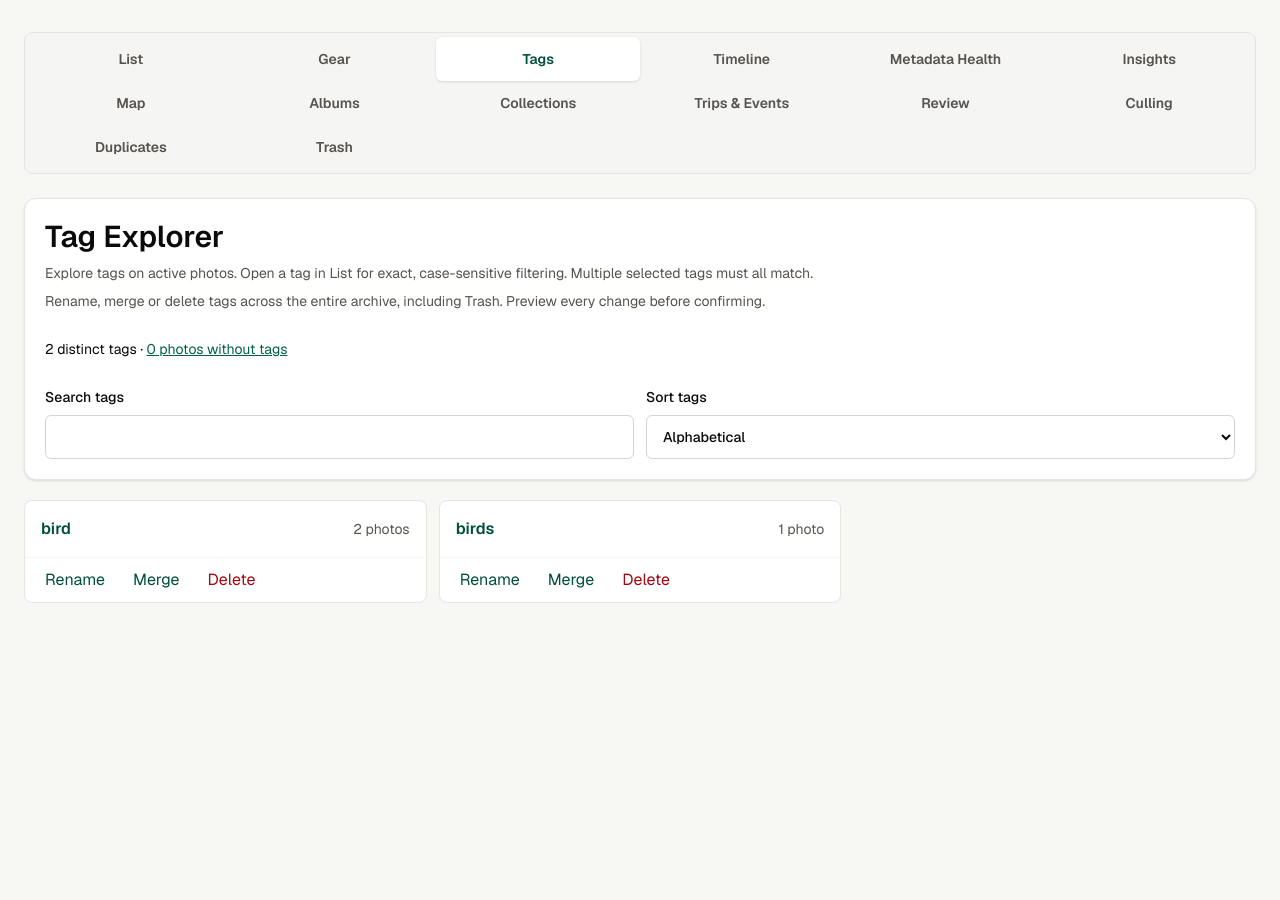
Test: Rename form previews counts, examples and applies once, then refreshes counts
Click the button with aria-label "Rename tag bird" at x=75, y=580, box [33,558,117,602]
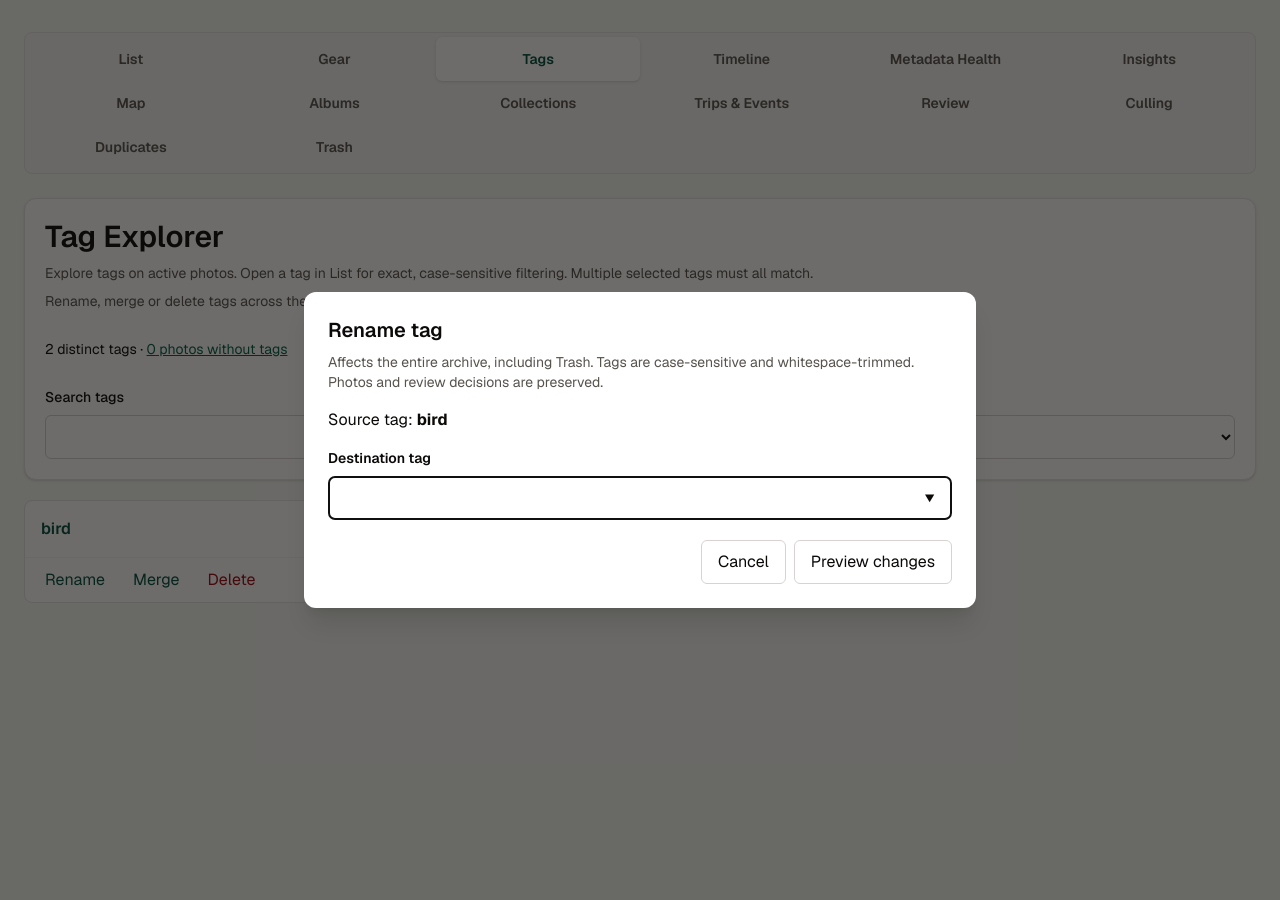
Type "birds" into the field labelled "Destination tag" at x=640, y=498, box [328,476,952,520]
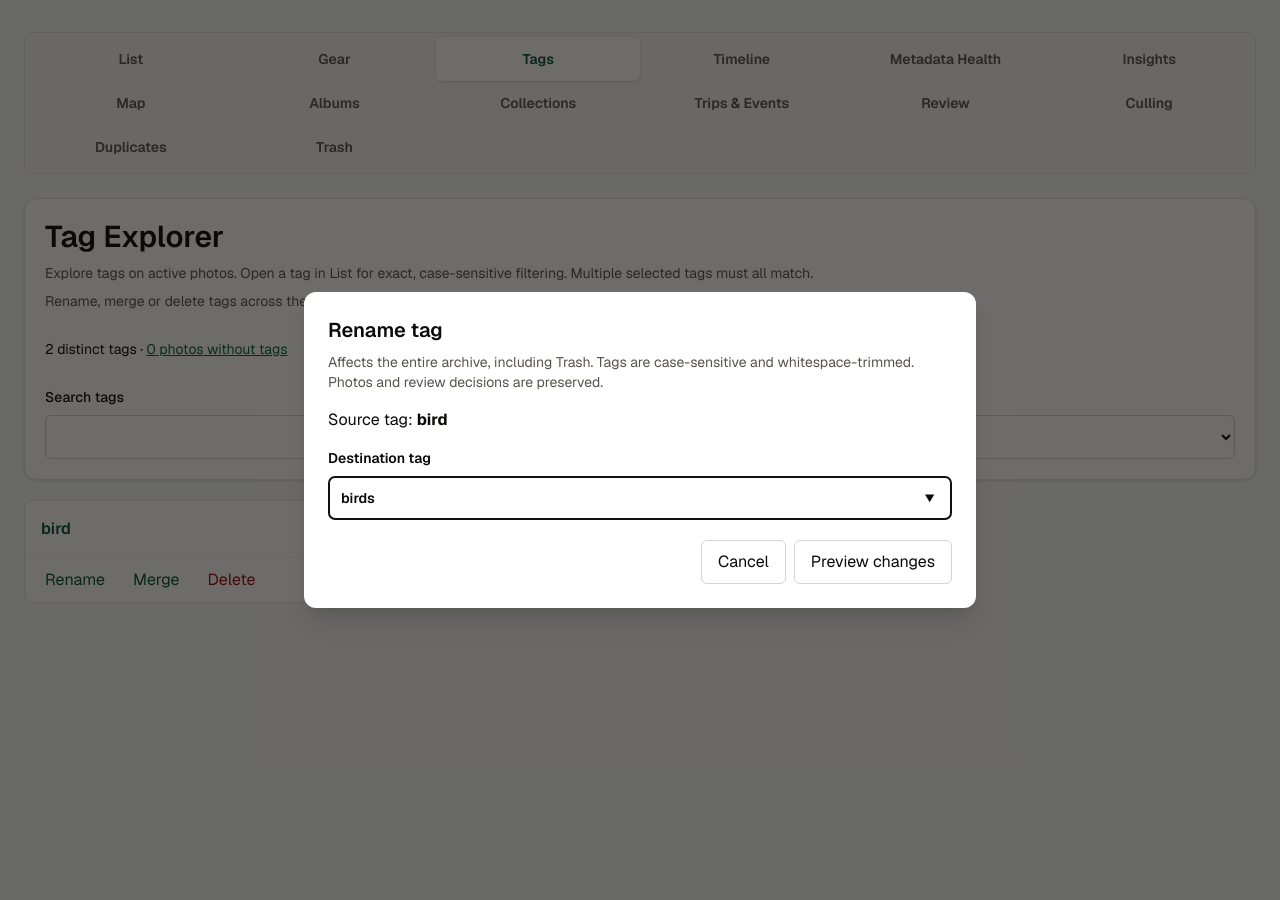
Click the button "Preview changes" at x=873, y=562, box [794,540,952,584]
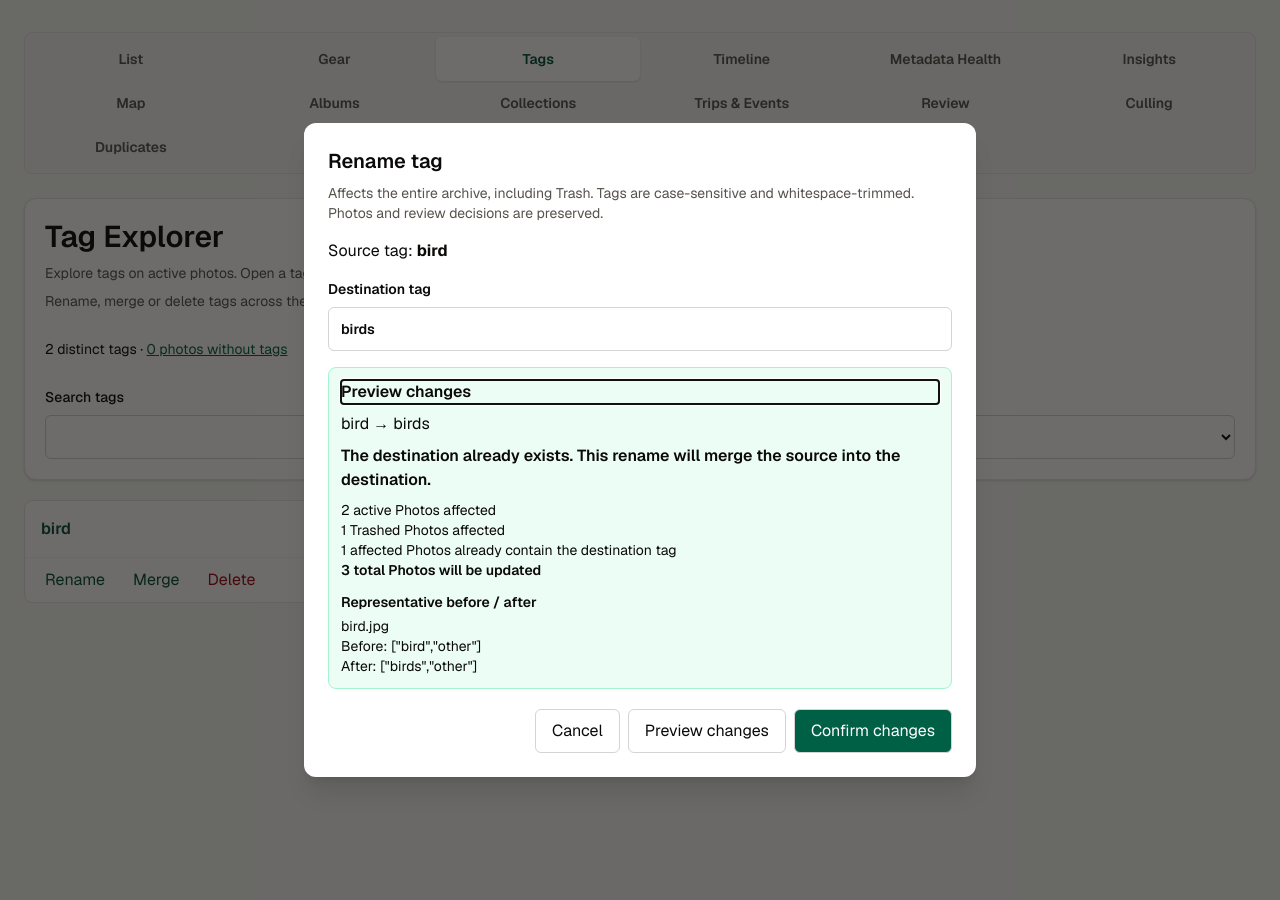
Expected: the list item "3 total Photos will be updated" is shown, [341,561,541,579]
Expected: the list item "2 active Photos affected" is shown, [341,501,496,519]
Expected: the list item "1 Trashed Photos affected" is shown, [341,521,505,539]
Click the button "Confirm changes" at x=873, y=731, box [794,709,952,753]
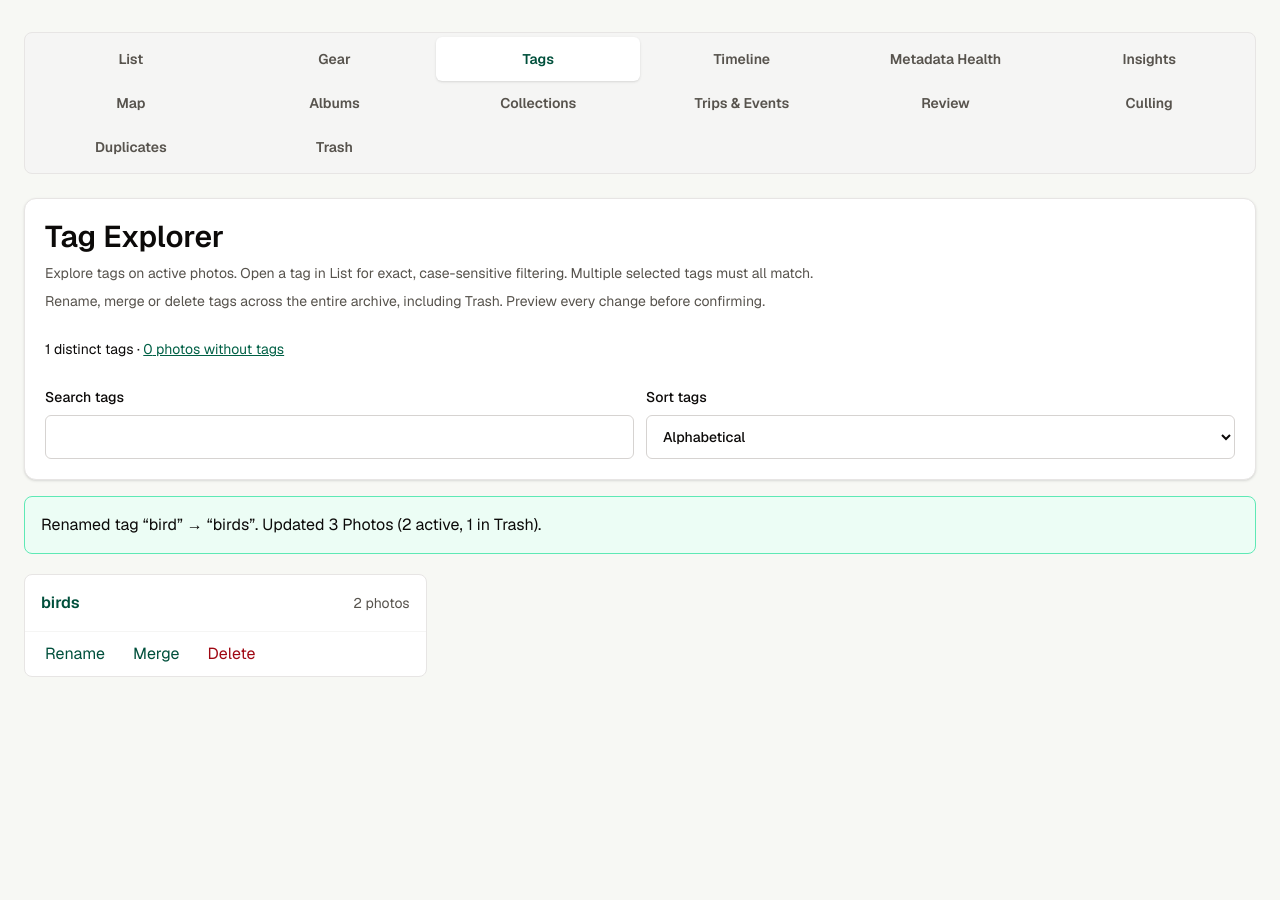
Expected: the text "Renamed tag “bird” → “birds”. Updated 3 Photos (2 active, 1 in Trash)." is shown, [24,496,1256,554]
Expected: the dialog is gone
Expected: the link "birds 2 photos" is shown, [41,592,410,613]
